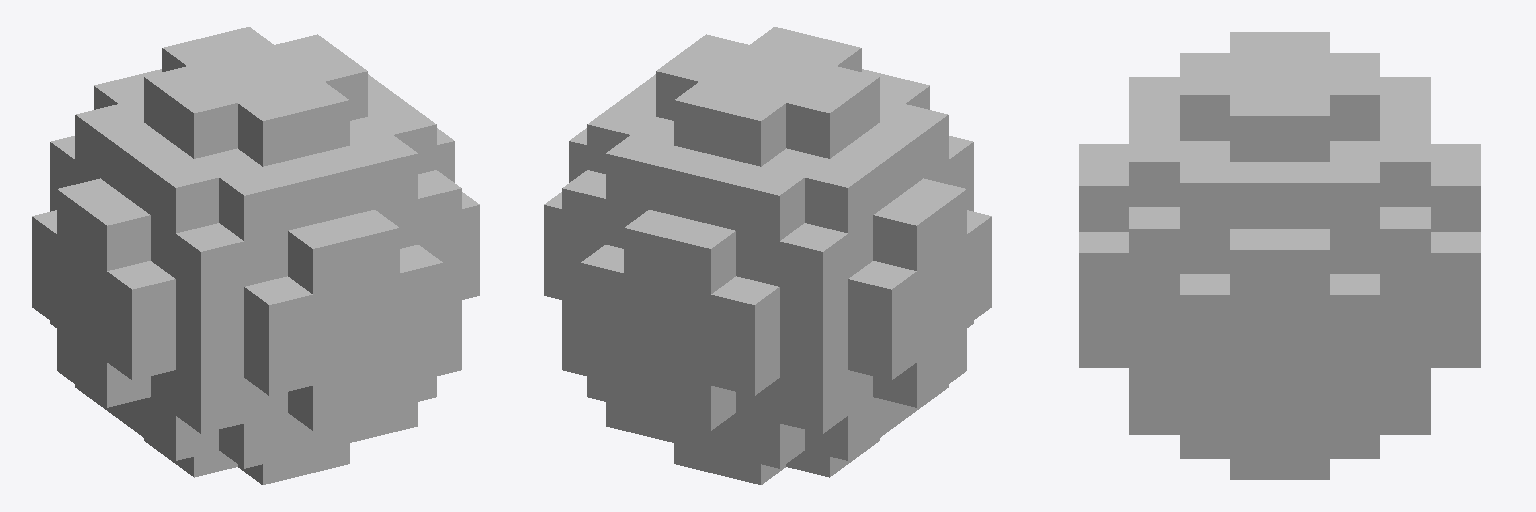
File: Bubble888.obj
3 renders of one model, left to right at view 1: azimuth 30°, elevation 25°; view 2: azimuth 150°, elevation 25°; view 3: azimuth 270°, elevation 25°, orthographic.
Visible parts, largest first — view 1: Bubble888; view 2: Bubble888; view 3: Bubble888.
Part boxes in pixels (x1,y1,x2,y2): Bubble888: (32,27,479,484); Bubble888: (544,27,991,484); Bubble888: (1079,32,1480,479).
Size of the model in its own units: 8 by 8 by 8.